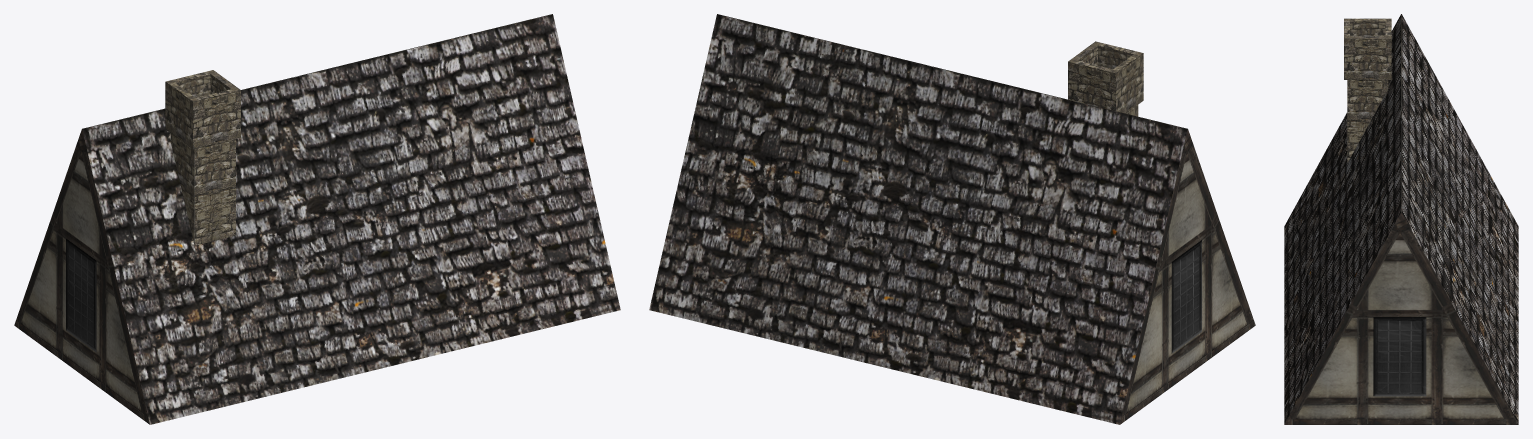
The model's file is Roof01.FBX.
3 views of the same model, side by side, from view 1: azimuth 30°, elevation 25°; view 2: azimuth 150°, elevation 25°; view 3: azimuth 270°, elevation 25° (orthographic). The views are drawn at different scales.
Visible parts, largest first — view 1: Roof01; view 2: Roof01; view 3: Roof01.
Boxes of the visible parts, box(x1,y1,x2,y2) form: Roof01: box(14, 14, 620, 424); Roof01: box(649, 14, 1255, 424); Roof01: box(1284, 14, 1518, 424).
Bounding box in the file's own units: 973 × 551 × 486.
